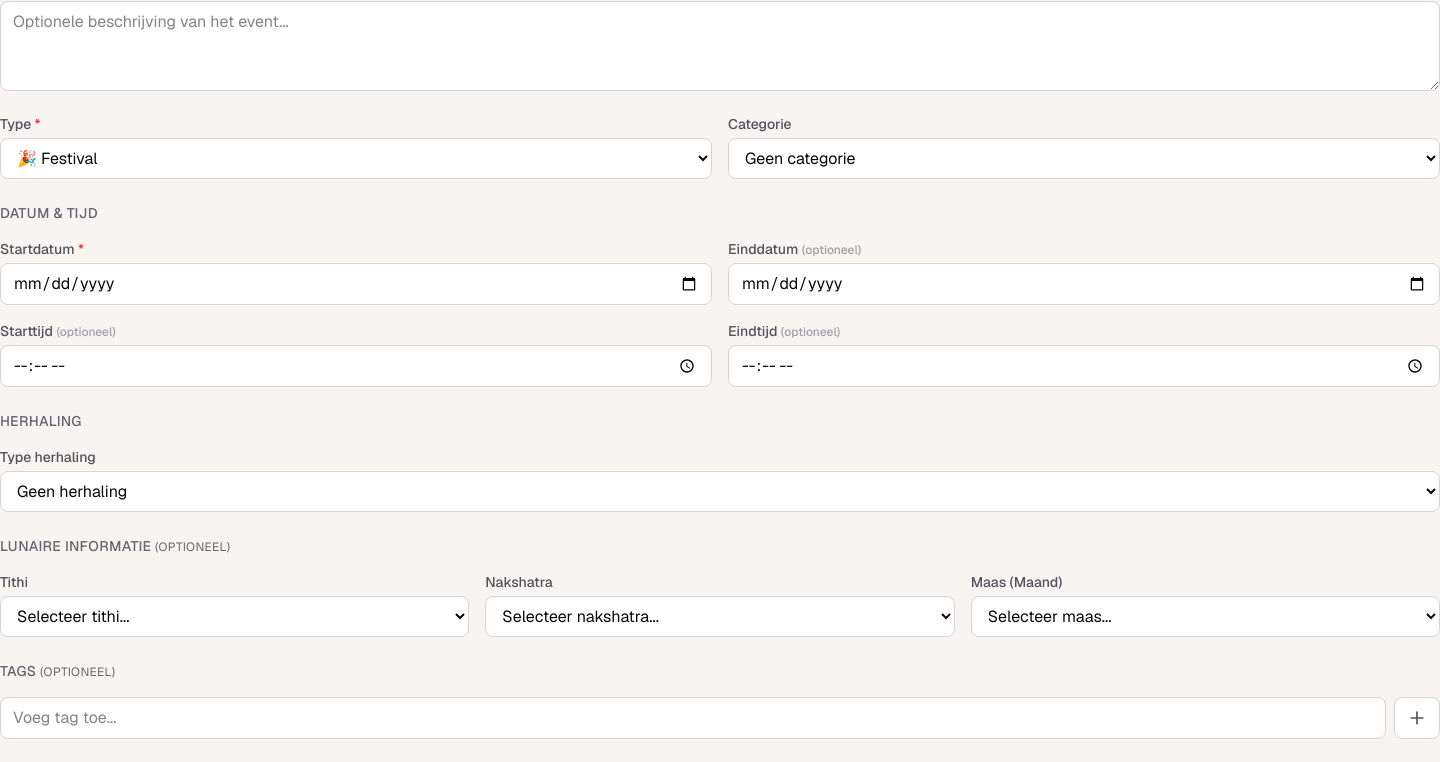
it: EventForm › shows validation errors and handles field updates
(page scrolled)
Submit the form named "Aanmaken"
(page scrolled)
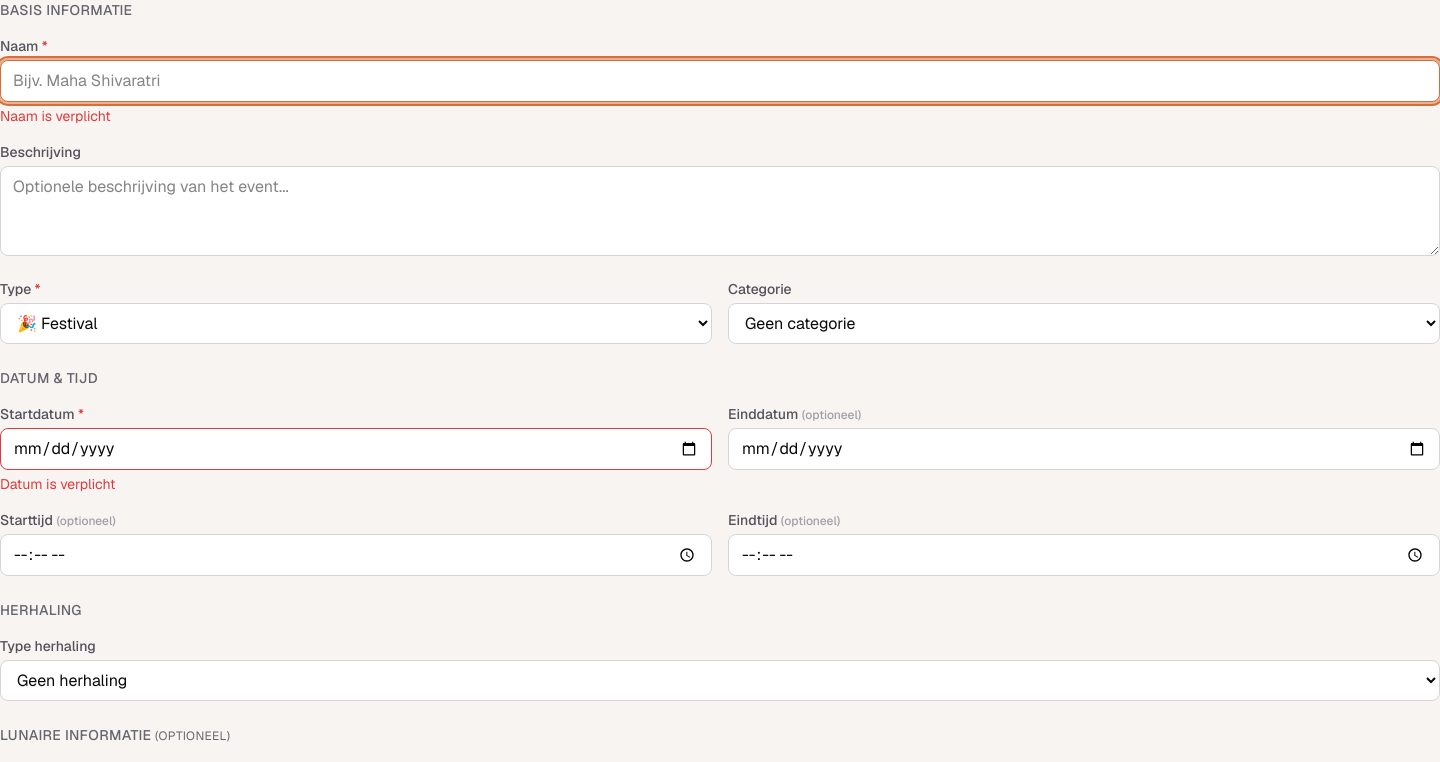
Now the text "Naam is verplicht" is shown, box [0,107,111,125]
Type "Fixed name" into the field labelled "Naam *" at (720,81), box [0,60,1439,102]
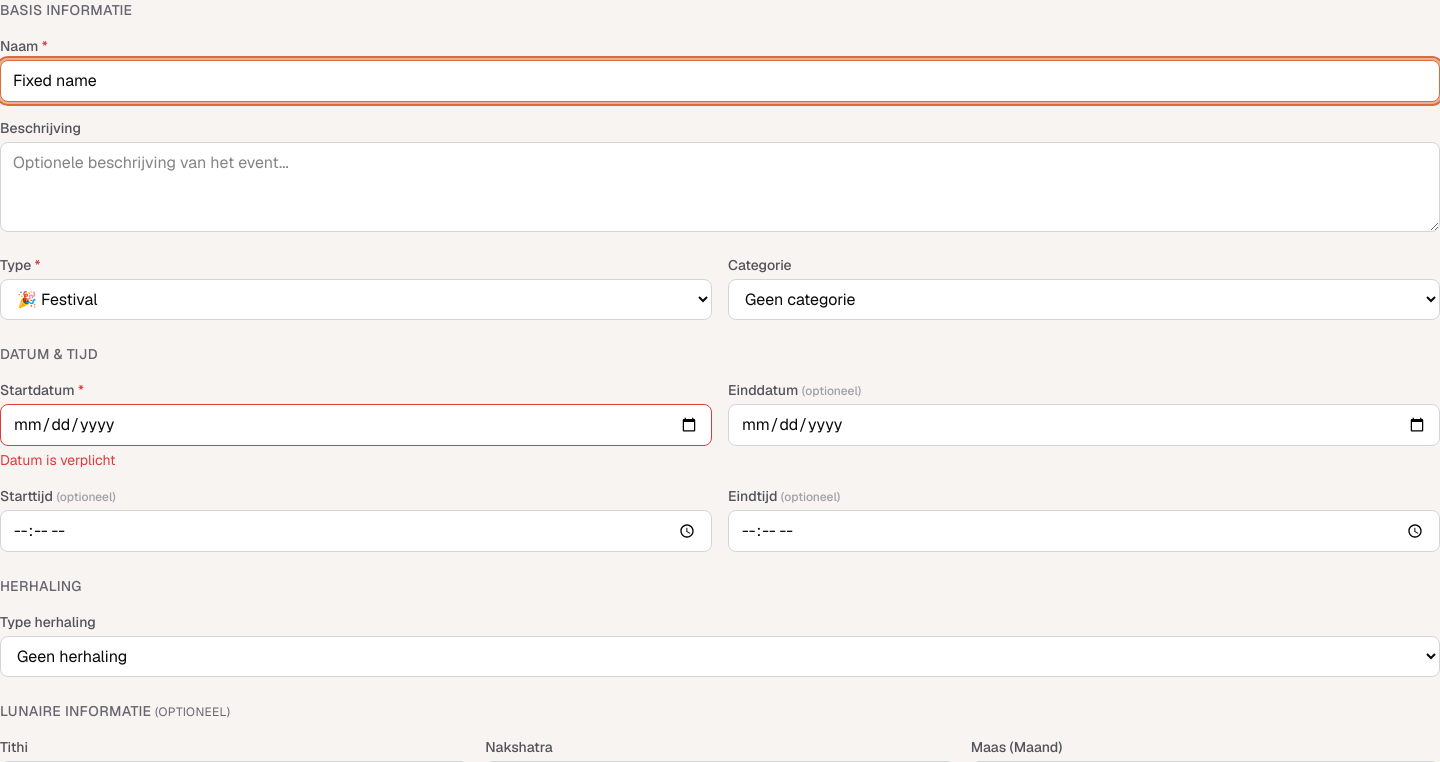
Now the text "Naam is verplicht" is gone
